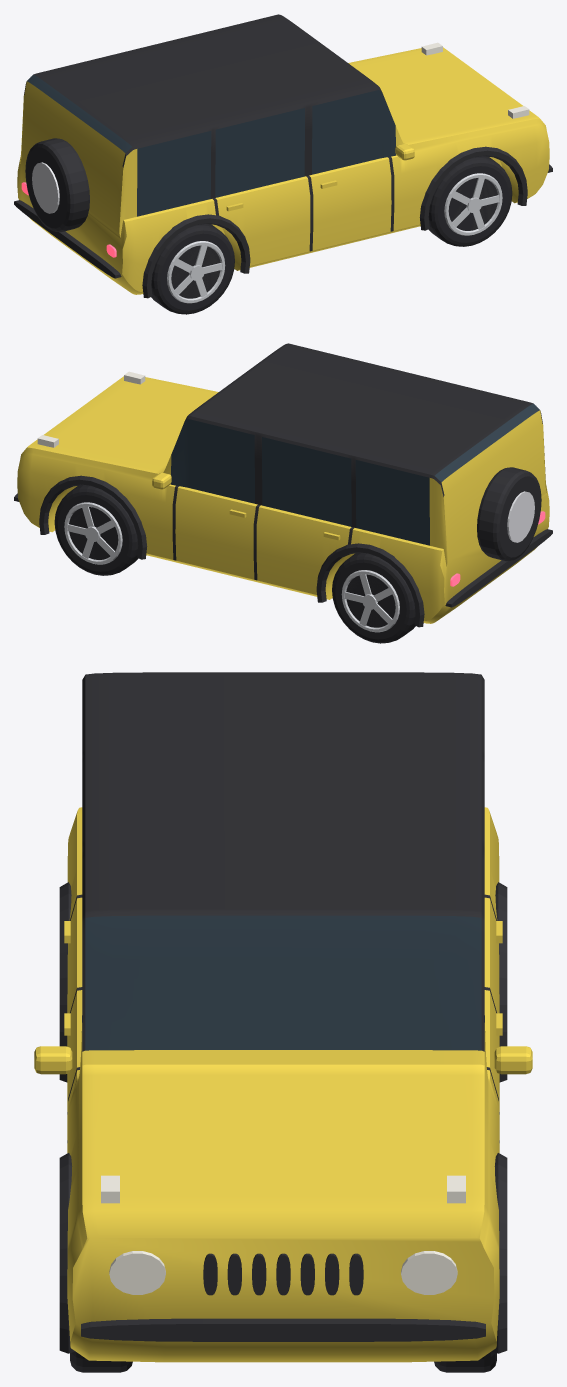
File: jeap_rangler.fbx
The picture shows the model from 3 angles, top to bottom: view 1: azimuth 30°, elevation 25°; view 2: azimuth 150°, elevation 25°; view 3: azimuth 270°, elevation 25°; orthographic projection. The views are drawn at different scales.
Visible parts, largest first — view 1: Body.024, Trim.024, Glass.024, Tire.024, Rim.024, Chrome.022, HeadLight.024; view 2: Body.024, Trim.024, Glass.024, Tire.024, Rim.024, Chrome.022, HeadLight.024; view 3: Body.024, Trim.024, Glass.024, HeadLight.024, Tire.024.
Part boxes in pixels (bbox=[...]): Body.024: bbox=[17, 47, 549, 294]; Trim.024: bbox=[14, 14, 552, 298]; Glass.024: bbox=[27, 74, 395, 216]; Tire.024: bbox=[151, 156, 512, 314]; Rim.024: bbox=[167, 173, 502, 303]; Chrome.022: bbox=[32, 162, 59, 213]; HeadLight.024: bbox=[421, 42, 529, 118]; Body.024: bbox=[17, 376, 549, 623]; Trim.024: bbox=[14, 343, 552, 627]; Glass.024: bbox=[171, 403, 539, 545]; Tire.024: bbox=[54, 485, 415, 643]; Rim.024: bbox=[64, 502, 399, 632]; Chrome.022: bbox=[507, 491, 534, 542]; HeadLight.024: bbox=[37, 371, 145, 447]; Body.024: bbox=[34, 807, 532, 1362]; Trim.024: bbox=[59, 672, 507, 1353]; Glass.024: bbox=[81, 915, 485, 1050]; HeadLight.024: bbox=[101, 1175, 465, 1294]; Tire.024: bbox=[70, 1351, 496, 1372].
Size of the model in its own units: 1661 by 630 by 784.
